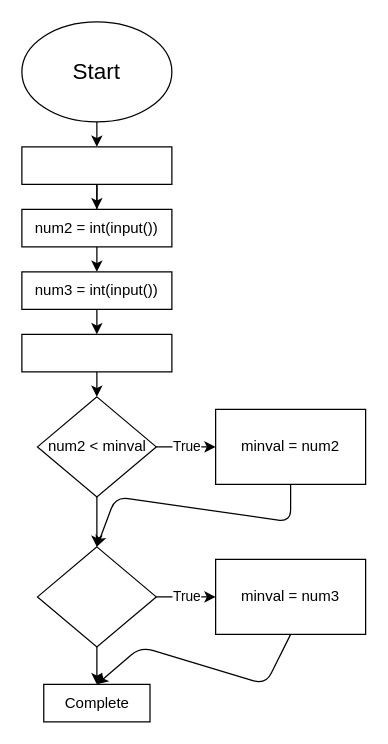
The diagram is 388 pixels wide and 744 high, and some of its shapes have lost their labels. Each missing label, with the centre of its shape:
"minval = num1" goes at point (96, 352).
"num1 = int(input())" goes at point (96, 165).
"num3 < minval" goes at point (96, 596).
